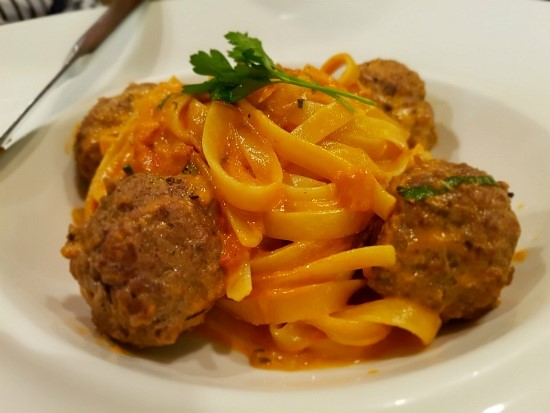meatballs: (73, 173, 223, 346), (376, 155, 526, 309)
plain spaghetti: (209, 108, 364, 296)
